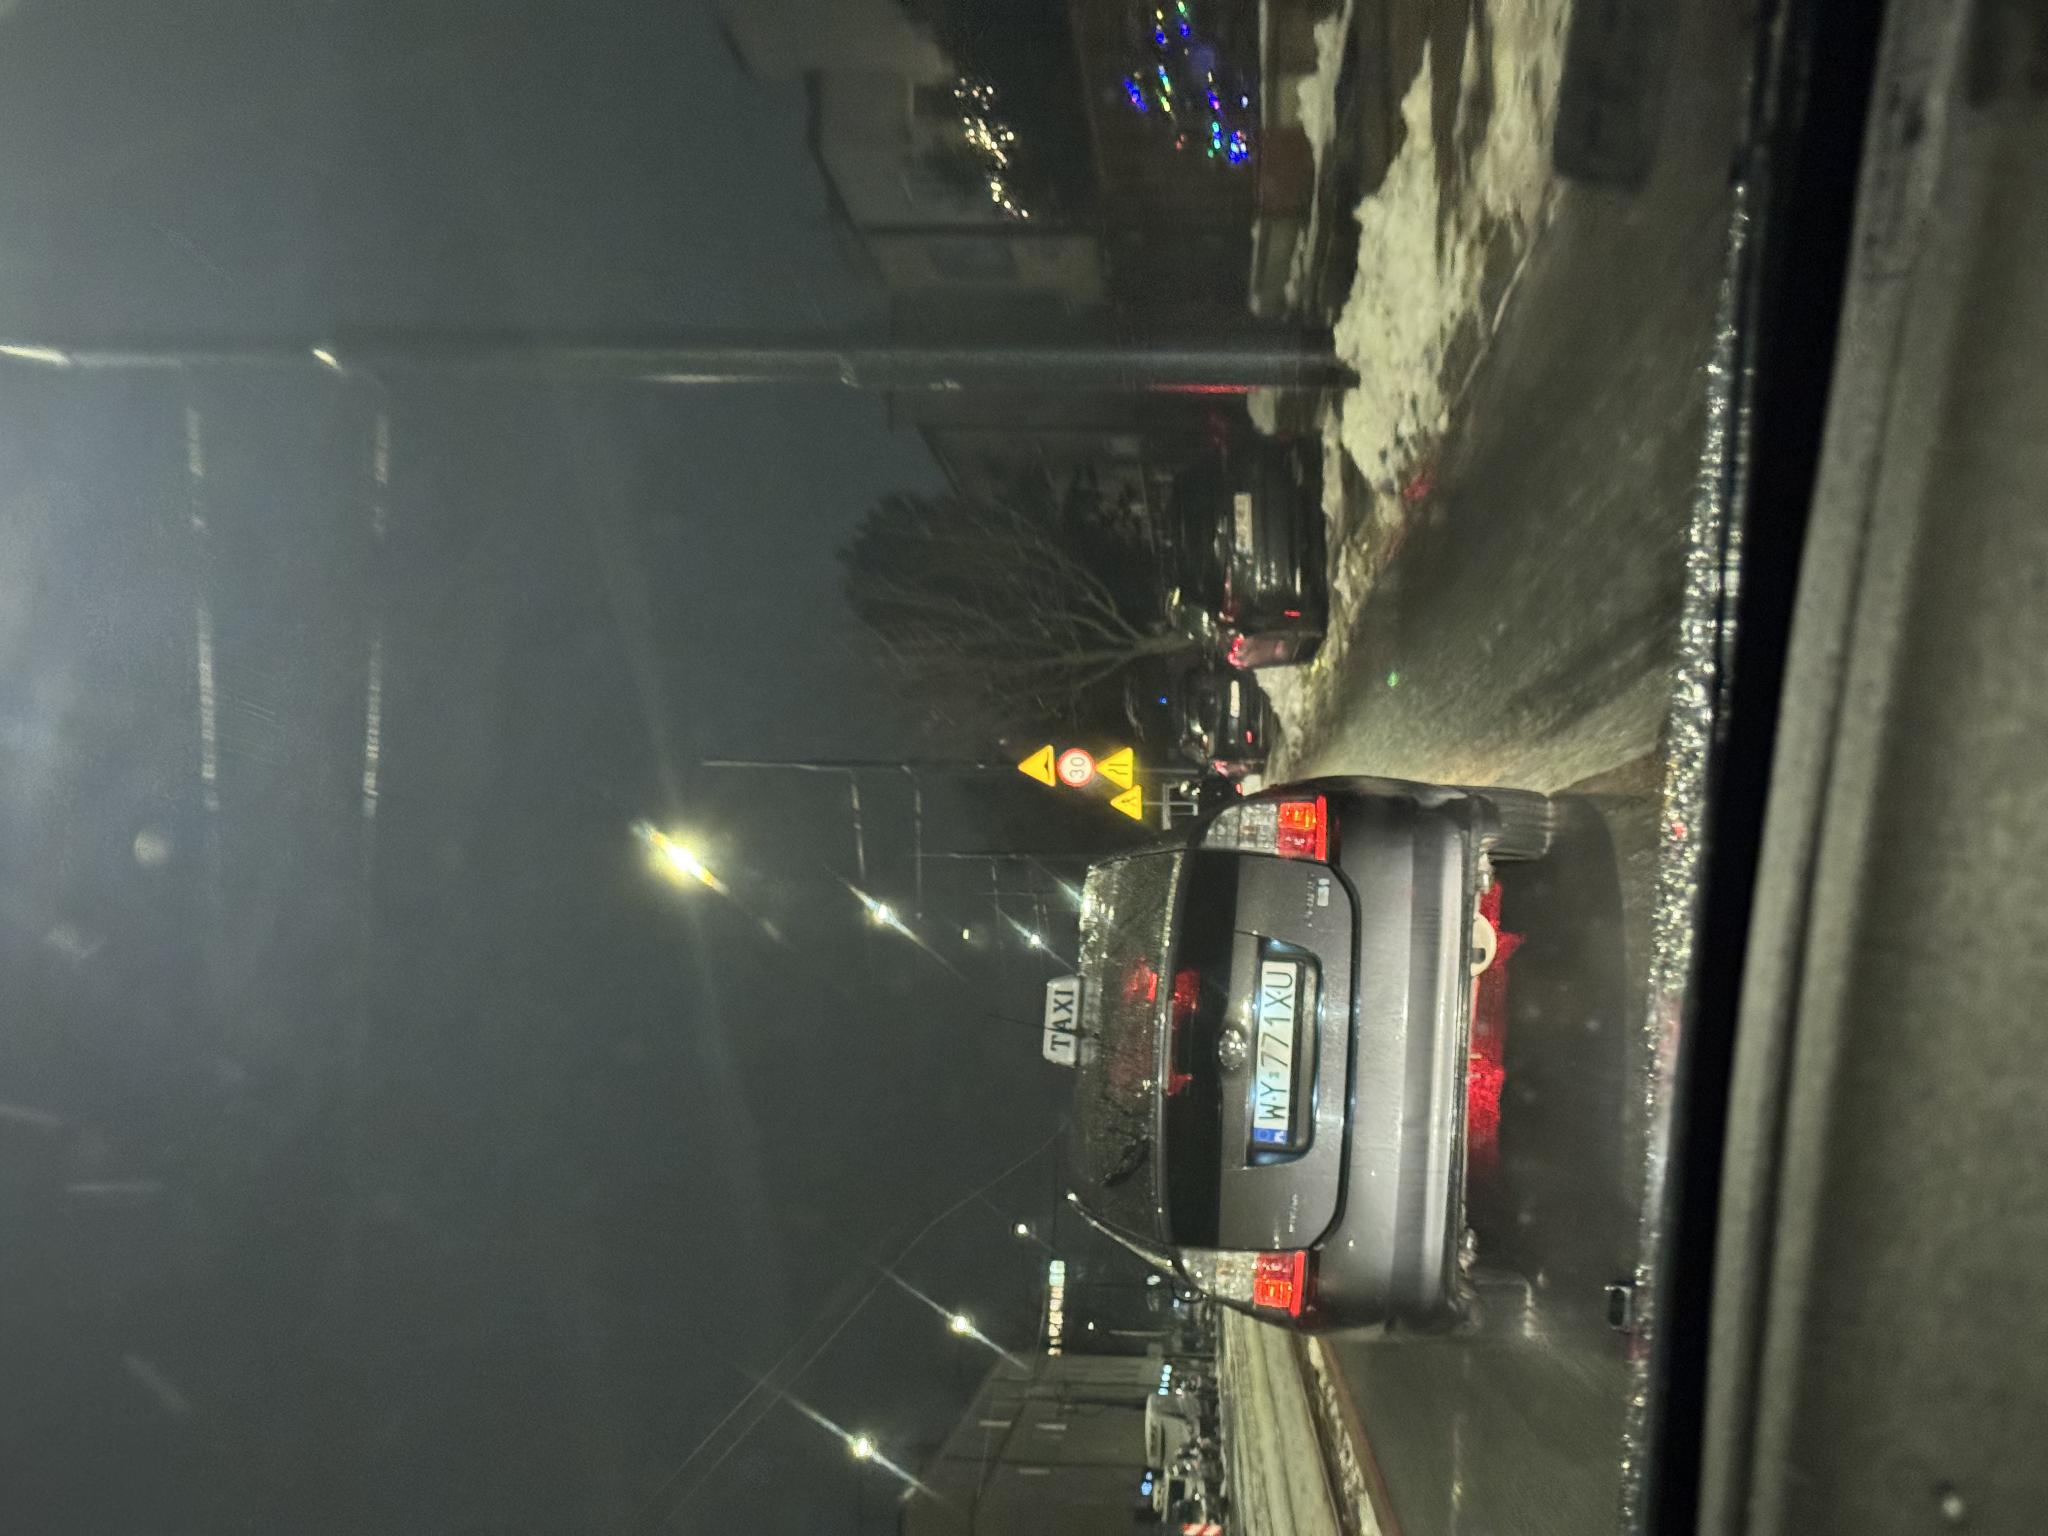prohibitory: (748, 1057, 787, 1096)
warning: (748, 1018, 792, 1057), (747, 1096, 792, 1133), (716, 1110, 751, 1142)
